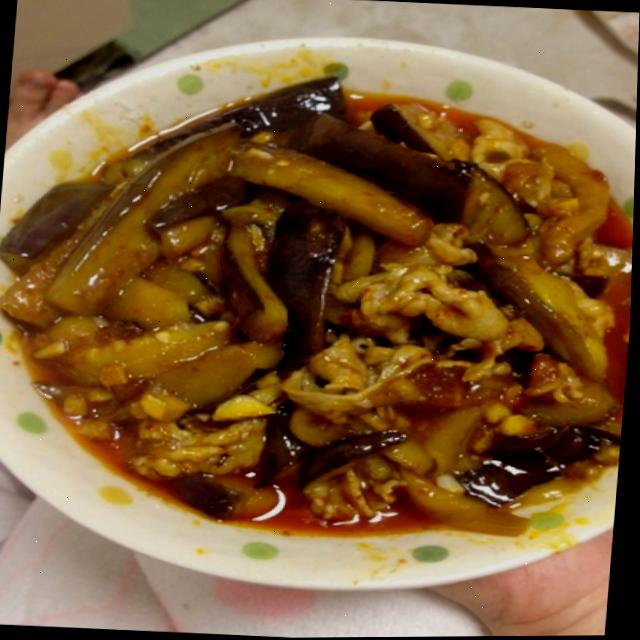鸡蛋料理: (0, 0, 640, 594)
